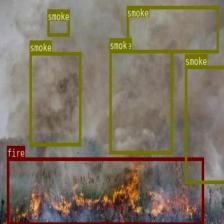fire: (7, 157, 204, 224)
smoke: (109, 50, 172, 154), (29, 51, 81, 146), (184, 65, 224, 183), (126, 5, 218, 52), (47, 9, 70, 36)
